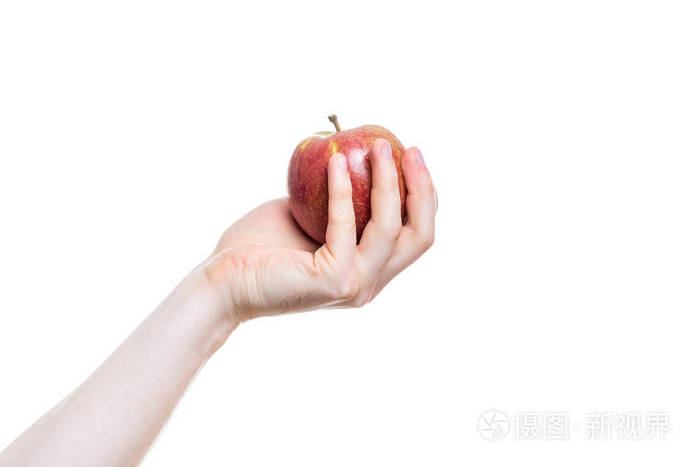no-phone: (204, 115, 440, 327)
